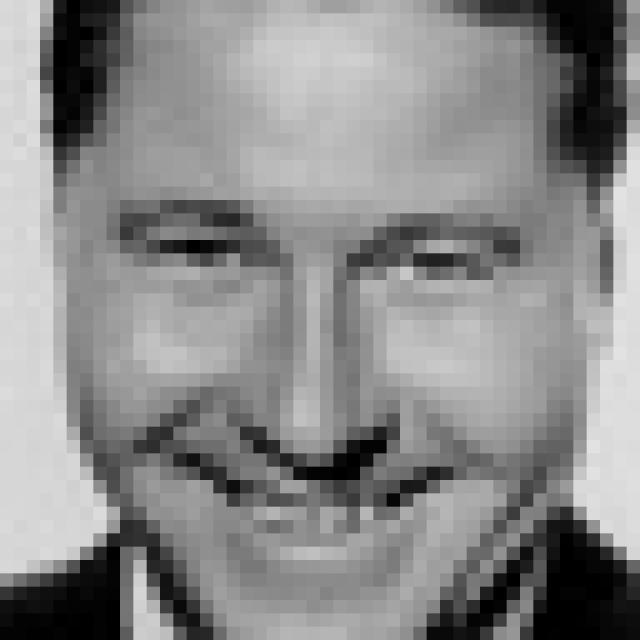happy: (94, 172, 539, 608)
